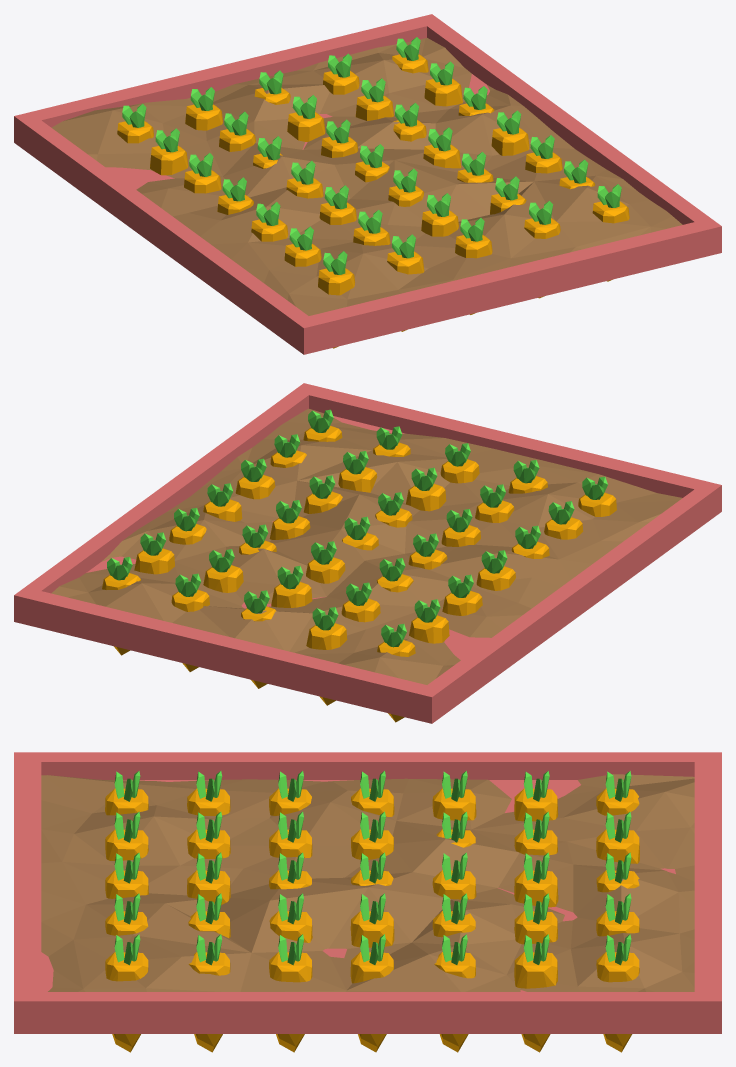
Rendered from huertoSeco.fbx.
The picture shows the model from 3 angles, top to bottom: view 1: azimuth 30°, elevation 25°; view 2: azimuth 150°, elevation 25°; view 3: azimuth 270°, elevation 25°; orthographic projection. The views are drawn at different scales.
Visible parts, largest first — view 1: Cube.019; view 2: Cube.019; view 3: Cube.019.
Part boxes in pixels (x1,y1,x2,y2): Cube.019: [14, 14, 721, 354]; Cube.019: [14, 383, 721, 723]; Cube.019: [14, 752, 721, 1052].
Bounding box in the file's own units: 817 × 178 × 982.
